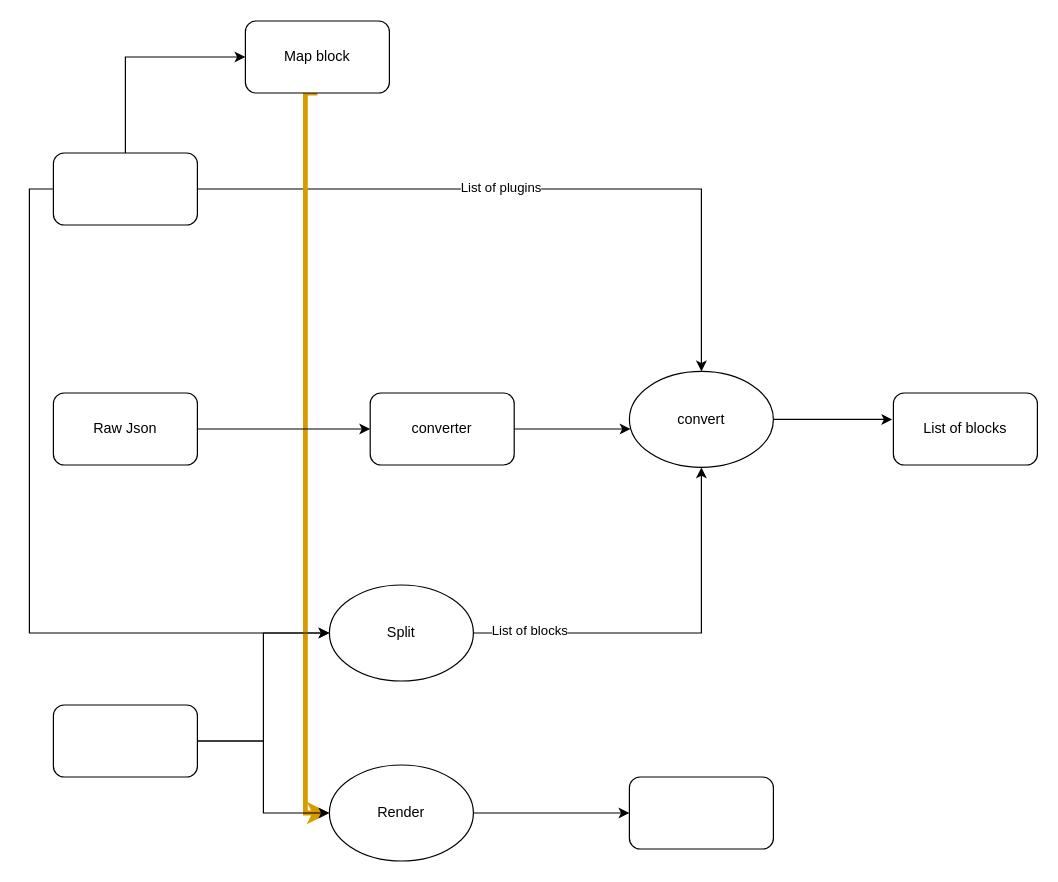
The diagram is 1058 pixels wide and 882 high, and some of its shapes have lost their labels. Here are the shapes that lost their labels. From the top down, the centre of each, then its label:
At [124,188]: "plugin".
At [124,740]: "Block".
At [700,812]: "Flutter widget".
